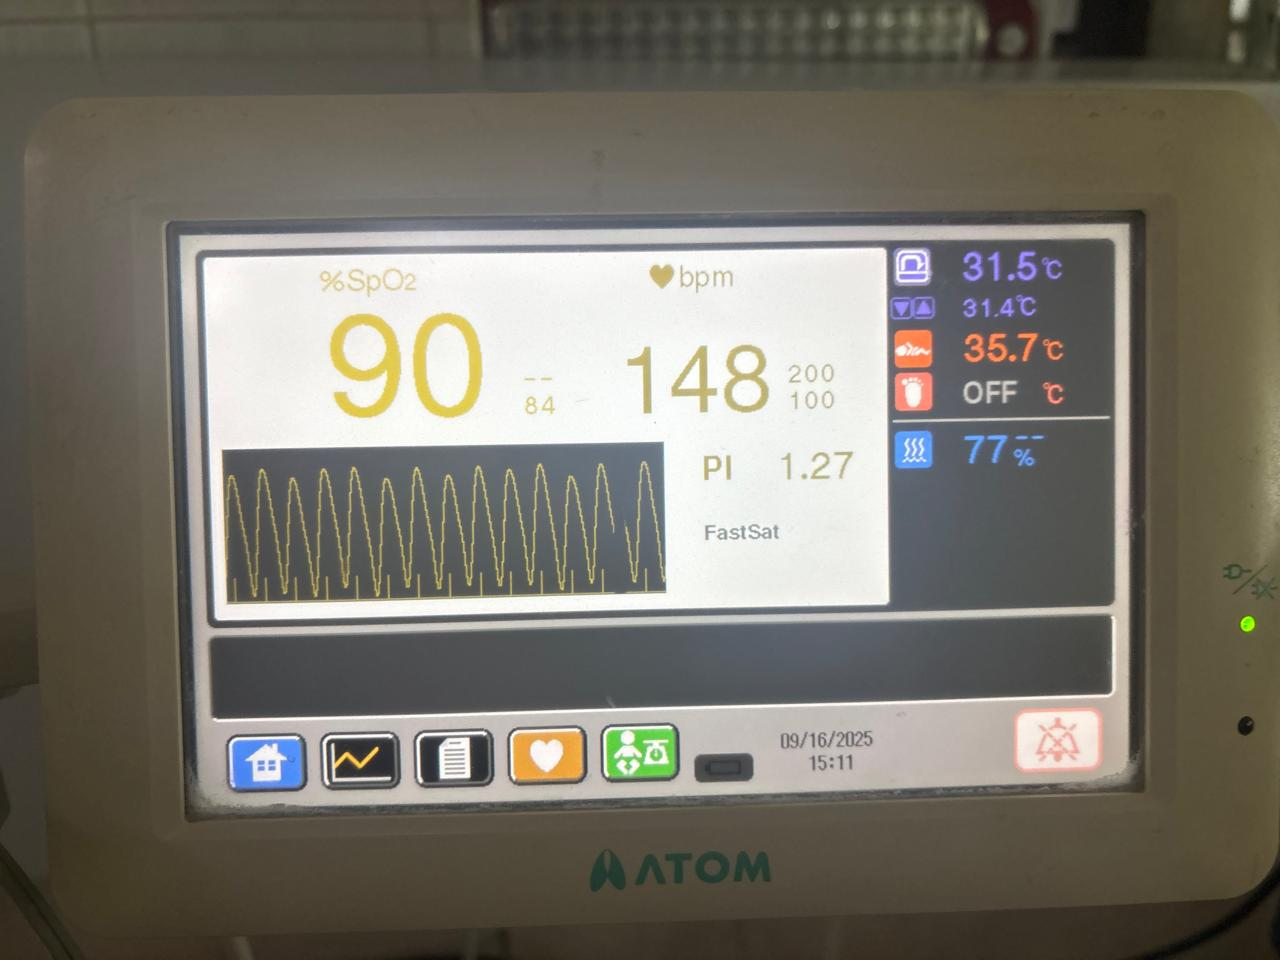heart_rate_value: (612, 333, 783, 435)
humidity_value: (949, 422, 1015, 480)
skin_temp_value: (951, 323, 1040, 371)
spo2_value: (313, 303, 498, 435)
